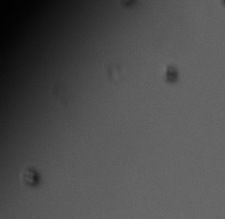Dead Cell: (21, 169, 42, 186), (163, 64, 180, 82)
